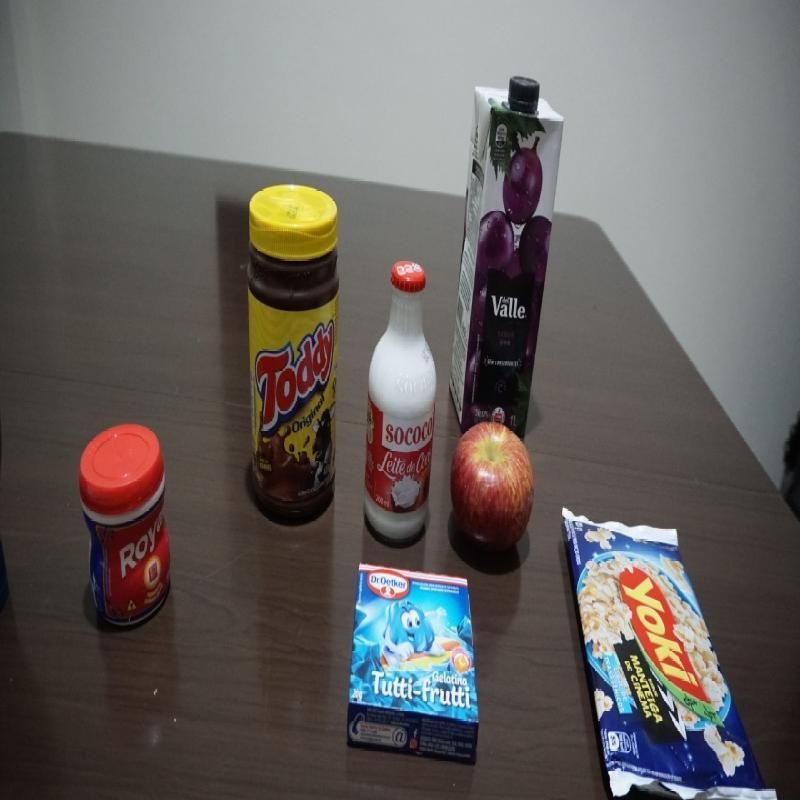Apple: (448, 419, 536, 562)
Chocolate Powder: (245, 182, 340, 526)
Coconut Milk: (362, 262, 439, 548)
Gelatine: (345, 561, 482, 769)
Popcorn: (561, 505, 777, 797)
Yeast: (78, 422, 173, 626)
